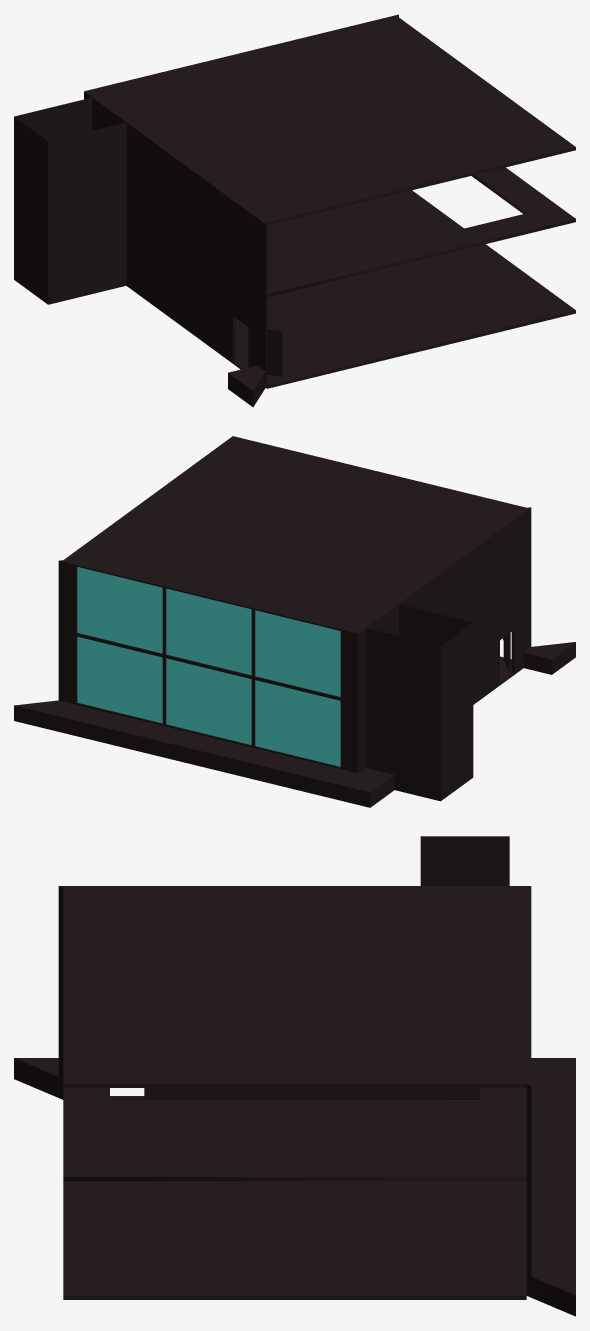
Rendered from map_4.fbx.
The picture shows the model from 3 angles, top to bottom: view 1: azimuth 30°, elevation 25°; view 2: azimuth 150°, elevation 25°; view 3: azimuth 270°, elevation 25°; orthographic projection. The views are drawn at different scales.
Parts seen in each view (by area): view 1: floor_re000, wall_stair_re, floor_re001, floor_assist_re, wall_window_re; view 2: floor_re000, wall_stair_re, wall_window_re, window_re001, window_re002, window_re003, window_re004, window_re000, window_re005; view 3: floor_re000, floor_re001, floor_assist_re, wall_window_re, wall_stair_re.
Part boxes in pixels (x1=…): floor_re000: x1=89, y1=16, x2=575, y2=225; wall_stair_re: x1=14, y1=91, x2=282, y2=407; floor_re001: x1=127, y1=190, x2=575, y2=388; floor_assist_re: x1=267, y1=167, x2=575, y2=297; wall_window_re: x1=85, y1=14, x2=398, y2=91; floor_re000: x1=63, y1=436, x2=525, y2=631; wall_stair_re: x1=357, y1=507, x2=575, y2=807; wall_window_re: x1=14, y1=560, x2=370, y2=807; window_re001: x1=166, y1=658, x2=251, y2=744; window_re002: x1=77, y1=636, x2=162, y2=723; window_re003: x1=255, y1=610, x2=340, y2=696; window_re004: x1=166, y1=588, x2=251, y2=675; window_re000: x1=255, y1=680, x2=340, y2=766; window_re005: x1=77, y1=567, x2=162, y2=653; floor_re000: x1=63, y1=888, x2=526, y2=1087; floor_re001: x1=63, y1=1100, x2=526, y2=1299; floor_assist_re: x1=63, y1=1088, x2=526, y2=1181; wall_window_re: x1=526, y1=886, x2=575, y2=1316; wall_stair_re: x1=14, y1=836, x2=574, y2=1099.
Bounding box in the file's own units: 2713 × 1020 × 2402.
